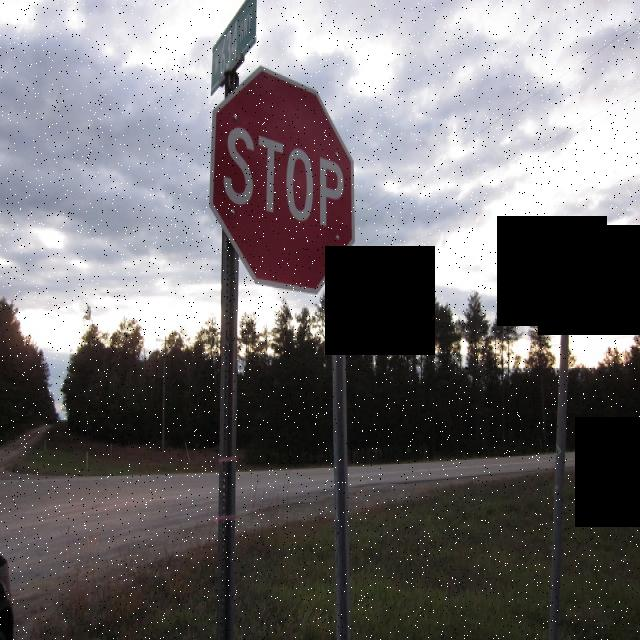stop: (213, 65, 361, 296)
